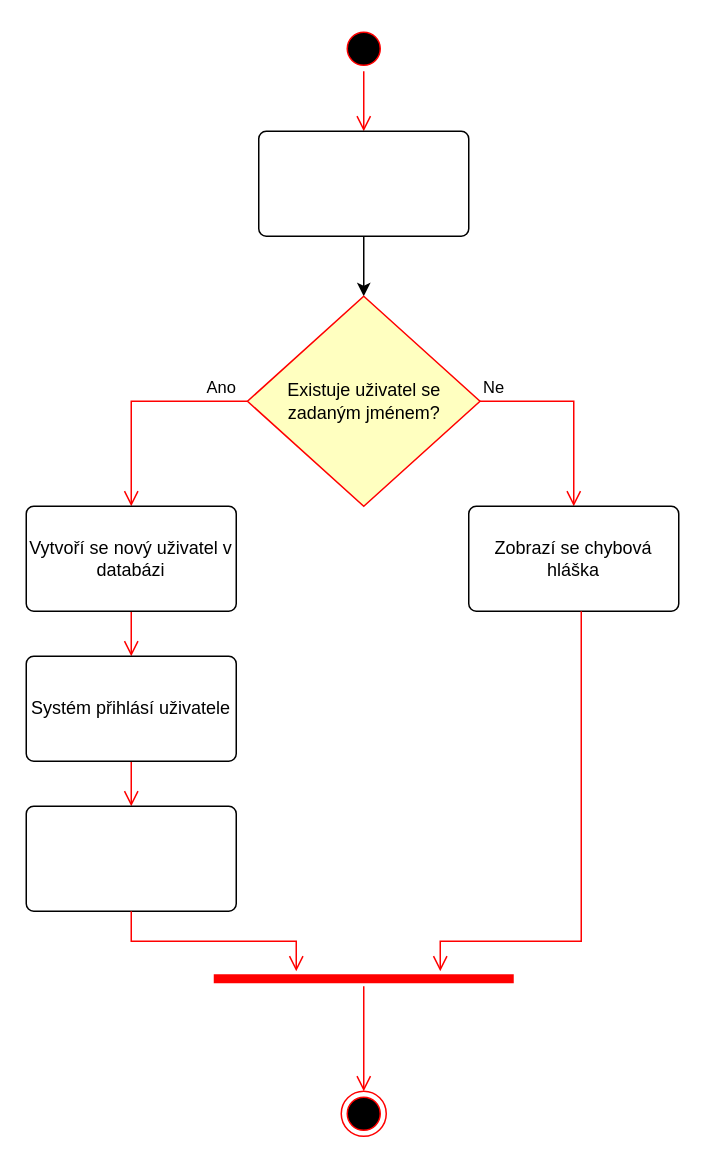
Some shapes in this 705 by 1163 pixel diagram are drawn without their labels. The centre of each missing label's shape, as x and y in pixels:
"Otevře se dashboard" goes at (x=130, y=858).
"Uživatel zadá registrační údaje" goes at (x=363, y=183).
